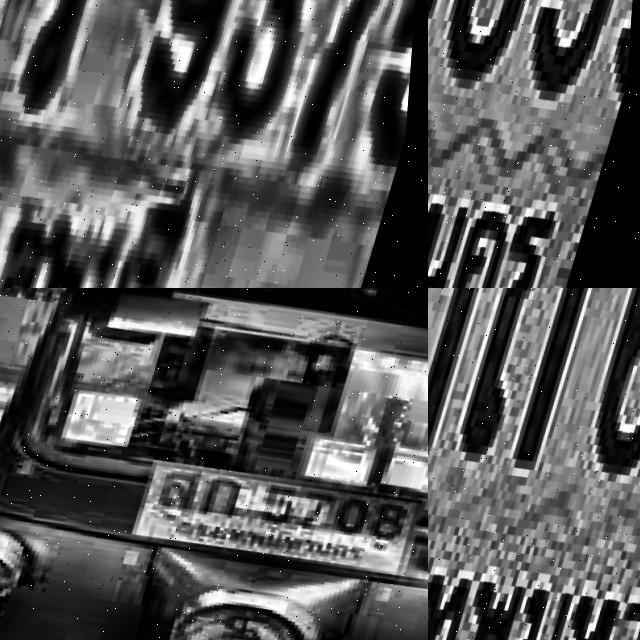license-plate: (0, 0, 428, 288), (428, 288, 640, 640), (428, 0, 640, 288), (135, 447, 425, 607)
